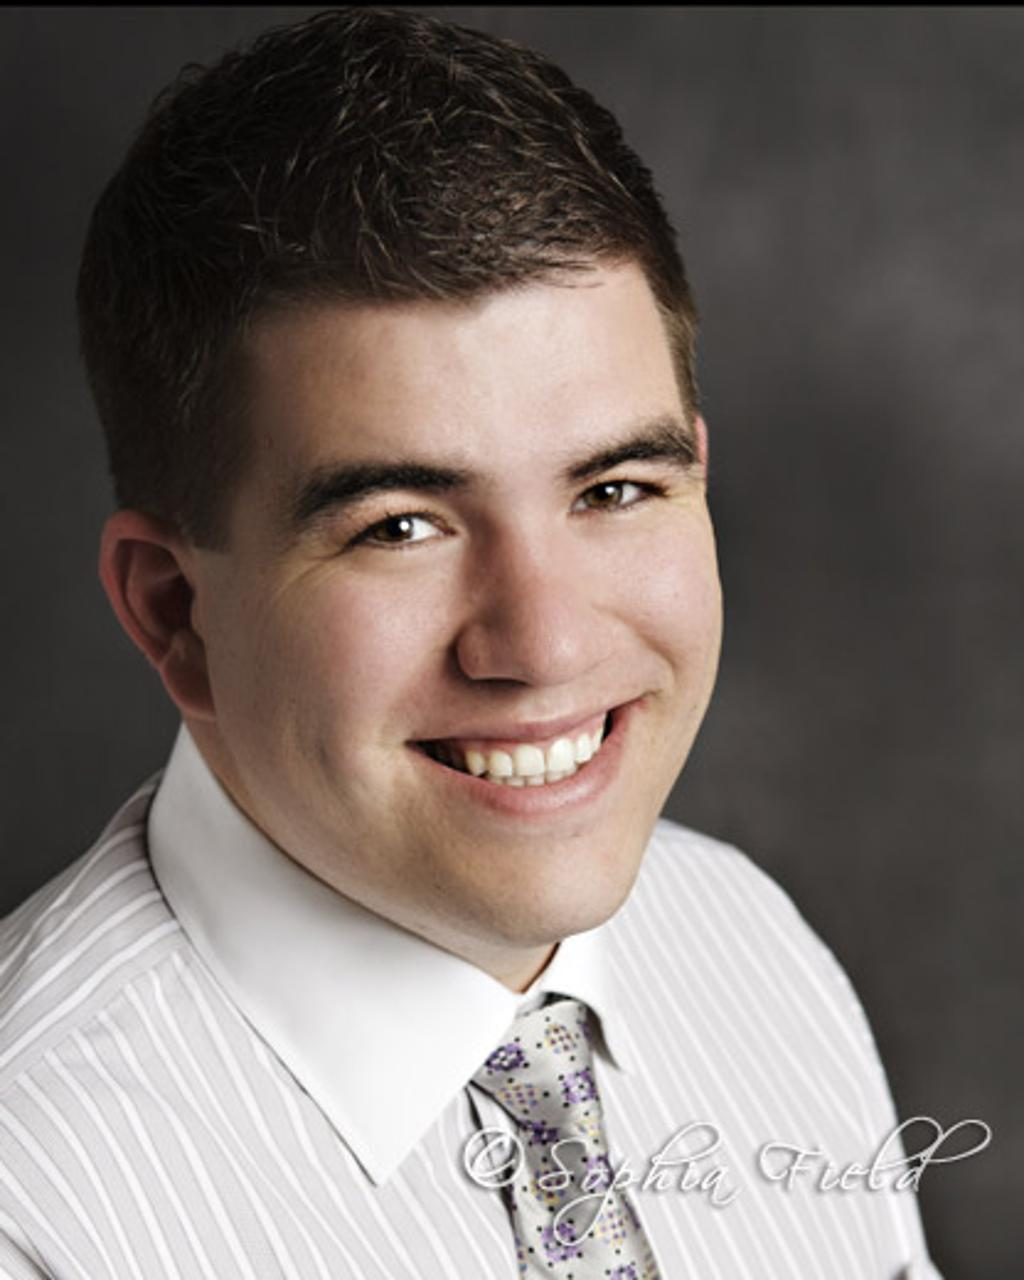face: (235, 292, 722, 936)
